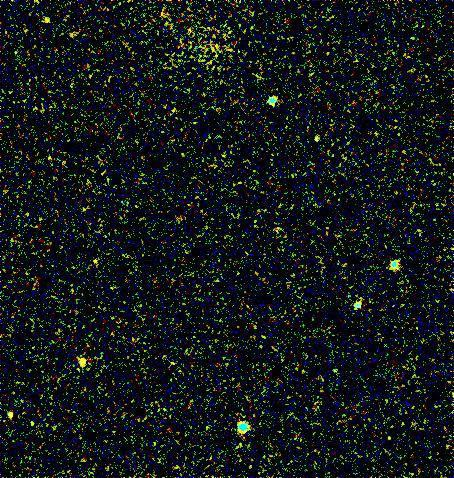star: (66, 345, 96, 375)
